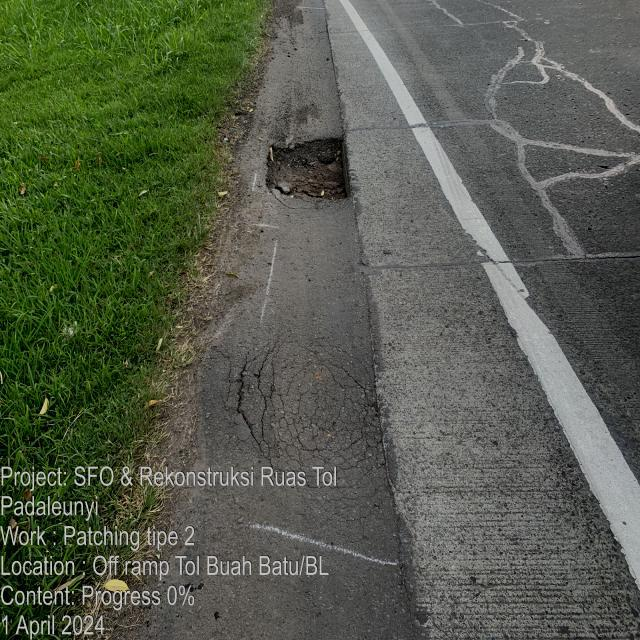Buraco: (262, 132, 356, 212)
